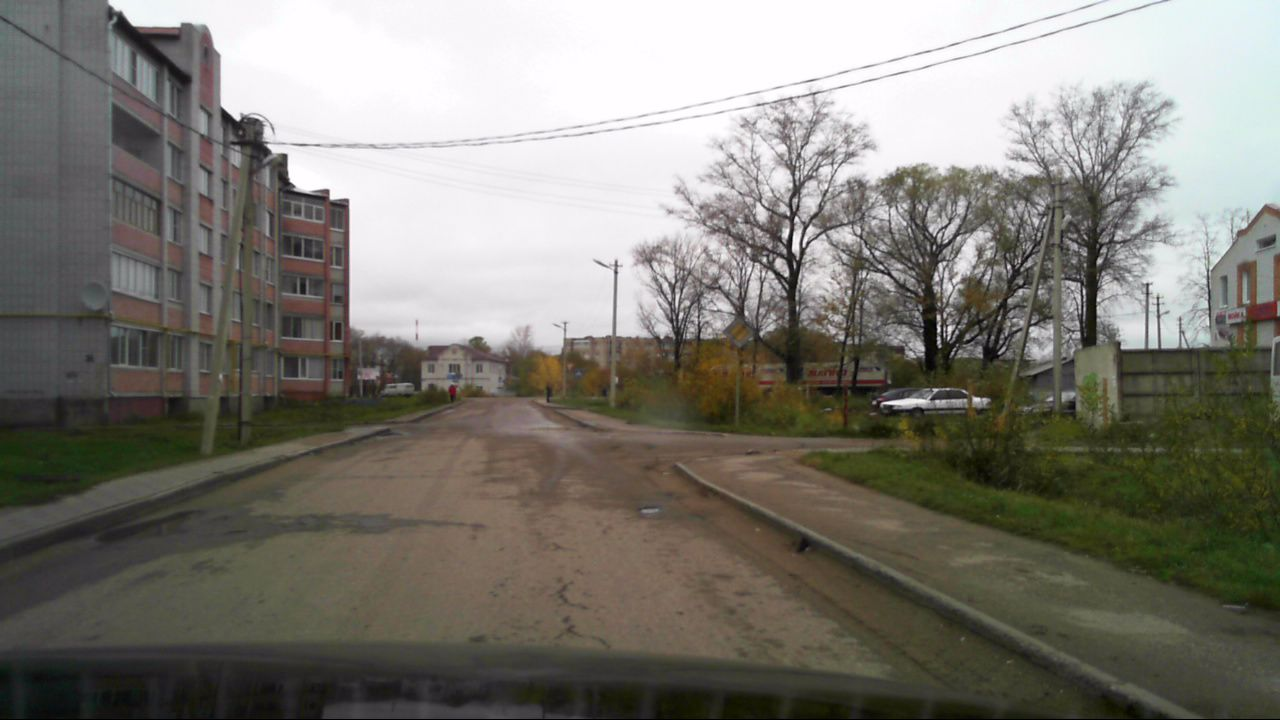main road: (722, 317, 754, 347)
